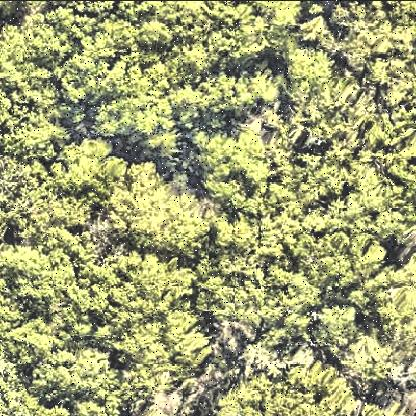tree-top: (96, 259, 206, 371), (106, 166, 207, 258), (137, 1, 301, 57), (332, 1, 416, 98), (218, 362, 362, 416), (95, 56, 175, 152), (1, 168, 91, 245), (177, 61, 281, 127), (6, 234, 76, 328), (351, 263, 416, 363), (298, 214, 388, 286), (4, 8, 75, 88), (201, 128, 271, 207), (3, 81, 70, 161), (55, 140, 125, 200), (72, 340, 118, 416), (30, 348, 90, 402), (286, 49, 337, 104), (339, 336, 388, 393), (6, 319, 58, 371), (315, 301, 359, 353)
